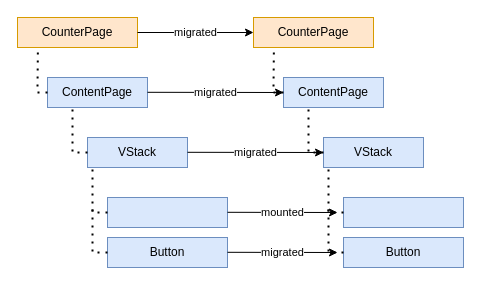
Some shapes in this 481 by 285 pixel diagram are drawn without their labels. The shapes that lost their labels are listed below. From the top down, each one's centre as x and y in pixels, then its label:
[167,212]: Label("Counter 0")
[403,212]: Label("Counter 2")
